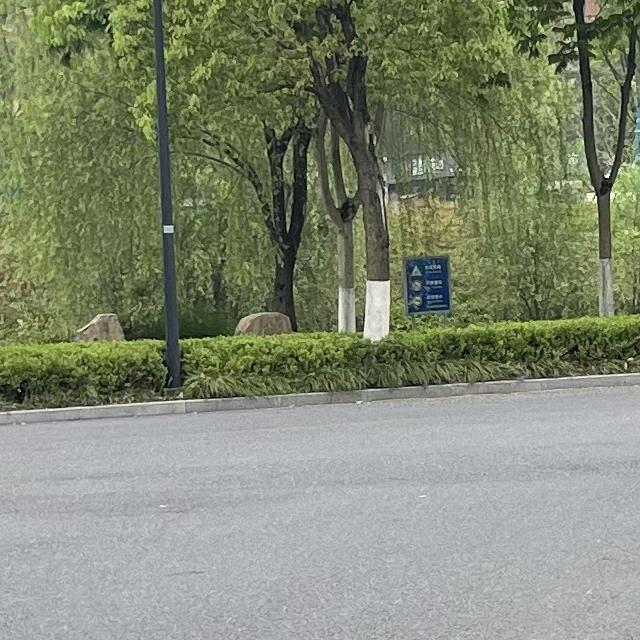curb: (0, 373, 639, 425)
